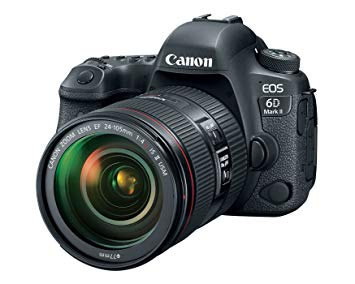kamera: (34, 10, 321, 271)
